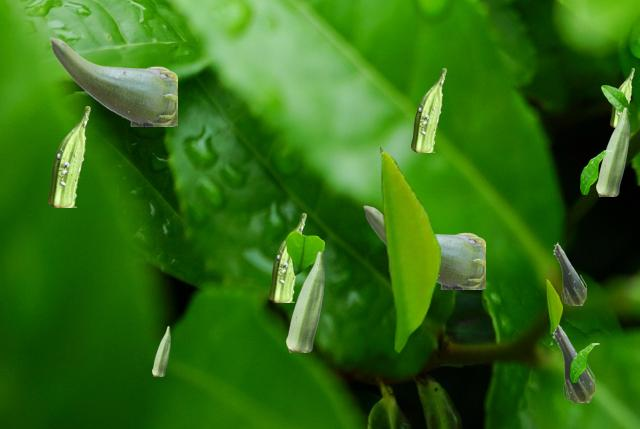okra: (49, 37, 176, 125), (363, 205, 484, 288), (48, 106, 89, 206), (286, 251, 323, 351), (269, 213, 305, 301), (552, 325, 593, 401), (411, 68, 445, 151), (596, 107, 628, 195), (553, 242, 585, 304), (610, 68, 633, 126), (152, 326, 169, 375)
